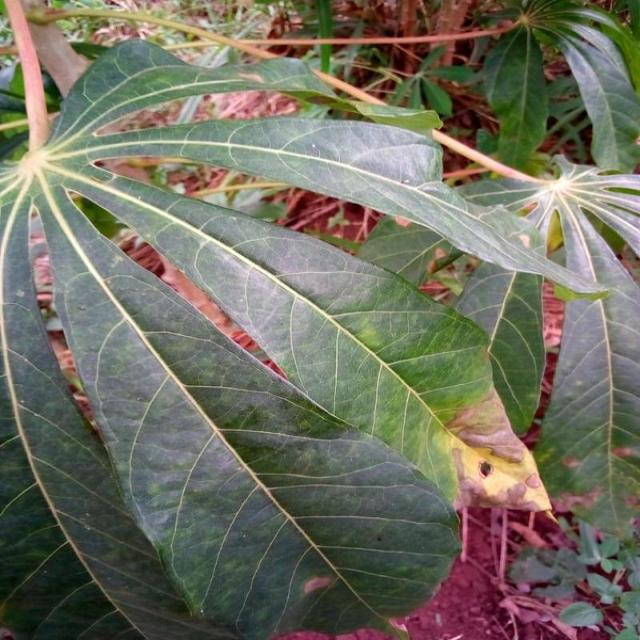cassava leaf: (1, 31, 558, 638)
